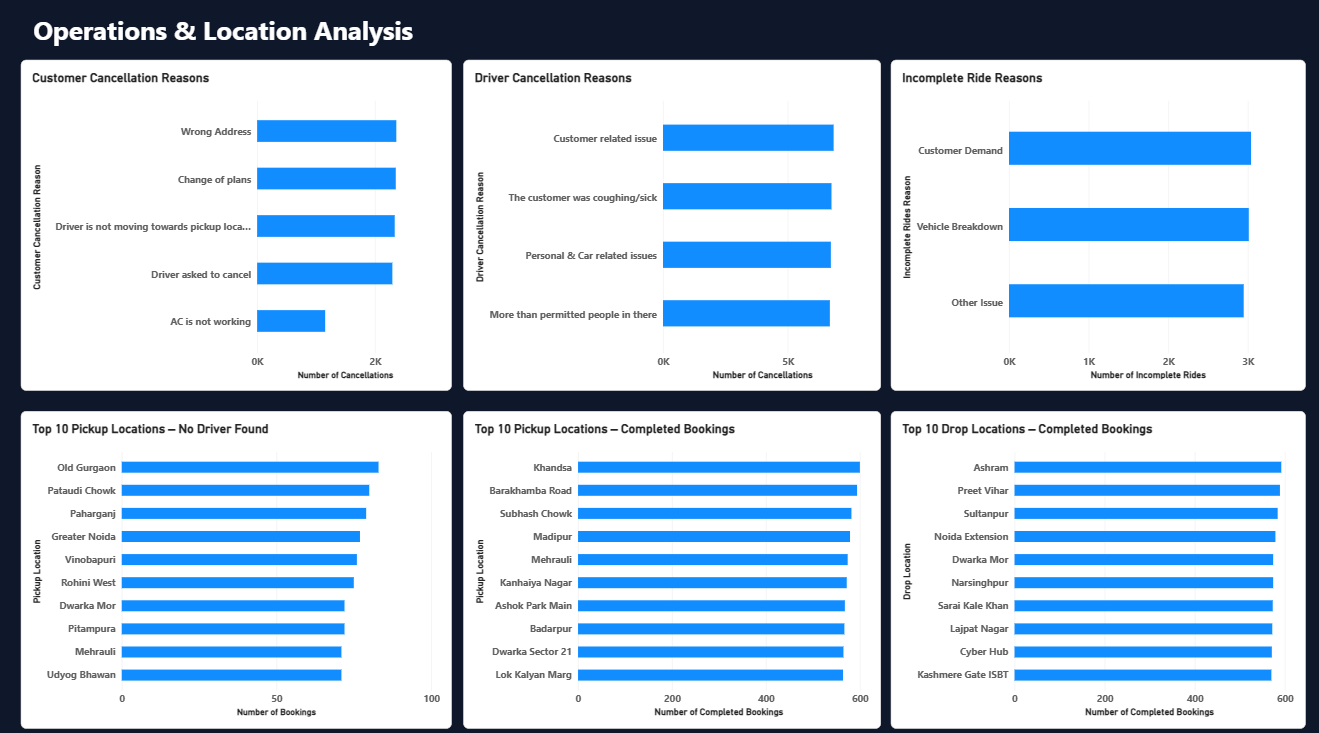

This screenshot's page, from the dashboard's own definition file:
{"tool":"powerbi","page":{"name":"Operations & Location Analysis","canvas":[1920,1080],"ordinal":2},"visuals":[{"type":"clusteredBarChart","title":"Customer Cancellation Reasons","fields":{"Category":["ncr_ride_bookings_clean.Reason for cancelling by Customer"],"Y":["CountNonNull(ncr_ride_bookings_clean.Booking ID)"]},"box":[34.4,99.5,624.3,479.6],"z":0},{"type":"clusteredBarChart","title":"Driver Cancellation Reasons","fields":{"Category":["ncr_ride_bookings_clean.Driver Cancellation Reason"],"Y":["CountNonNull(ncr_ride_bookings_clean.Booking ID)"]},"box":[675,99.5,604.4,479.6],"z":1000},{"type":"clusteredBarChart","title":"Incomplete Ride Reasons","fields":{"Category":["ncr_ride_bookings_clean.Incomplete Rides Reason"],"Y":["CountNonNull(ncr_ride_bookings_clean.Booking ID)"]},"box":[1293.9,99.5,600.8,479.6],"z":2000},{"type":"clusteredBarChart","title":"No Driver Found by Pickup Location","fields":{"Category":["ncr_ride_bookings_clean.Pickup Location"],"Y":["CountNonNull(ncr_ride_bookings_clean.Booking ID)"]},"box":[34.4,608,624.3,459.7],"z":3000},{"type":"clusteredBarChart","title":"Completed Bookings by Pickup Location","fields":{"Category":["ncr_ride_bookings_clean.Pickup Location"],"Y":["CountNonNull(ncr_ride_bookings_clean.Booking ID)"]},"box":[675,608,604.4,459.7],"z":4000},{"type":"clusteredBarChart","title":"Completed Bookings by Drop Location","fields":{"Category":["ncr_ride_bookings_clean.Drop Location"],"Y":["CountNonNull(ncr_ride_bookings_clean.Booking ID)"]},"box":[1293.9,608,600.8,459.7],"z":5000},{"type":"textbox","box":[1654,141,161,480],"z":6000},{"type":"textbox","box":[52.5,30.8,803.5,86.9],"z":7000}]}

Visuals, with their boxes in screenshot pixels (x1, y1, x2, y2), scaled from the page's 1920x1080 canvas onto the 1319x733 screenshot:
"Customer Cancellation Reasons" clusteredBarChart: [x1=24, y1=68, x2=453, y2=393]
"Driver Cancellation Reasons" clusteredBarChart: [x1=464, y1=68, x2=879, y2=393]
"Incomplete Ride Reasons" clusteredBarChart: [x1=889, y1=68, x2=1302, y2=393]
"No Driver Found by Pickup Location" clusteredBarChart: [x1=24, y1=413, x2=453, y2=725]
"Completed Bookings by Pickup Location" clusteredBarChart: [x1=464, y1=413, x2=879, y2=725]
"Completed Bookings by Drop Location" clusteredBarChart: [x1=889, y1=413, x2=1302, y2=725]
textbox: [x1=1136, y1=96, x2=1247, y2=421]
textbox: [x1=36, y1=21, x2=588, y2=80]
